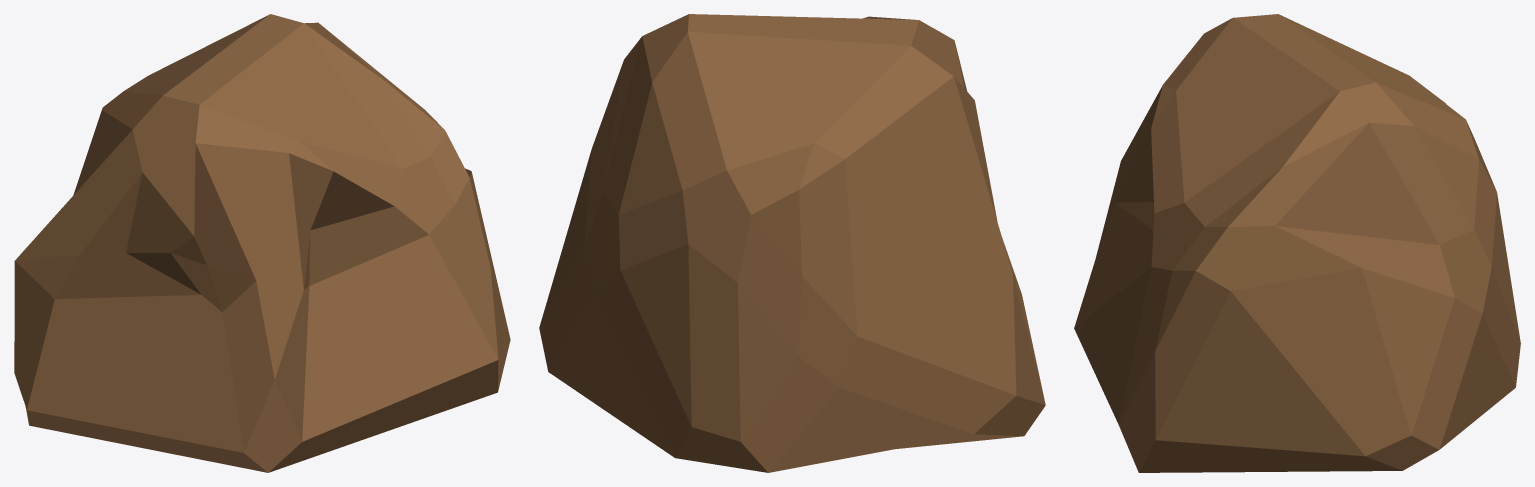
The model's file is Rock_10_Light_Brown.fbx.
The picture shows the model from 3 angles, left to right: view 1: azimuth 30°, elevation 25°; view 2: azimuth 150°, elevation 25°; view 3: azimuth 270°, elevation 25°; orthographic projection. The views are drawn at different scales.
Visible parts, largest first — view 1: Rock_10_Light_Brown; view 2: Rock_10_Light_Brown; view 3: Rock_10_Light_Brown.
Part boxes in pixels (<box>): Rock_10_Light_Brown: <box>14,14,510,472</box>; Rock_10_Light_Brown: <box>539,14,1045,472</box>; Rock_10_Light_Brown: <box>1074,14,1520,472</box>.
Bounding box in the file's own units: 145 × 107 × 130.
